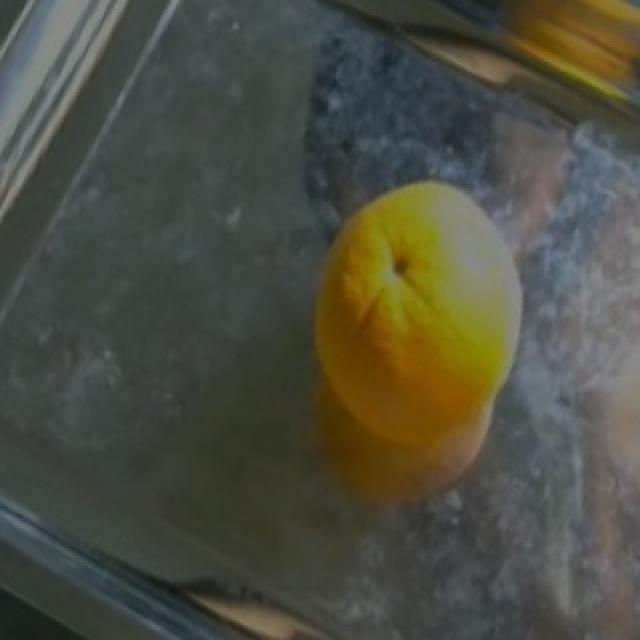Fruit: (292, 156, 538, 442)
